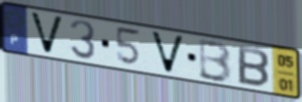3: (68, 19, 97, 62)
5: (114, 24, 143, 69)
B: (197, 37, 235, 84), (236, 44, 271, 90)
V: (148, 29, 187, 76), (27, 10, 66, 57)
